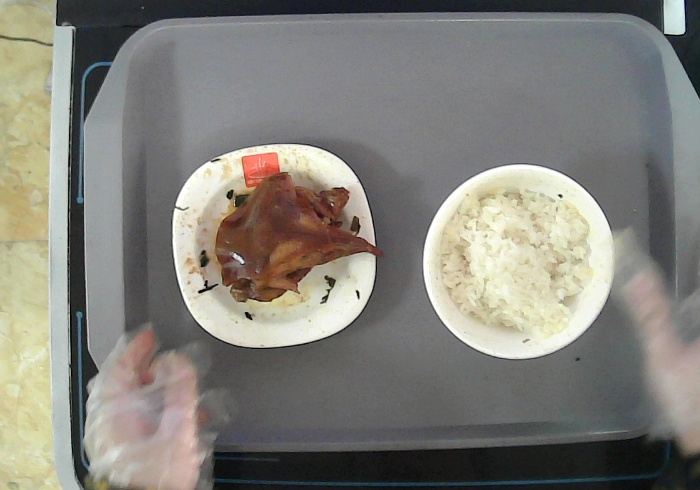SHKJ-Bai_Se_Si_Fang_Cai_Die: (174, 142, 376, 347)
SHKJ-Fan_Wan: (423, 161, 615, 360)
